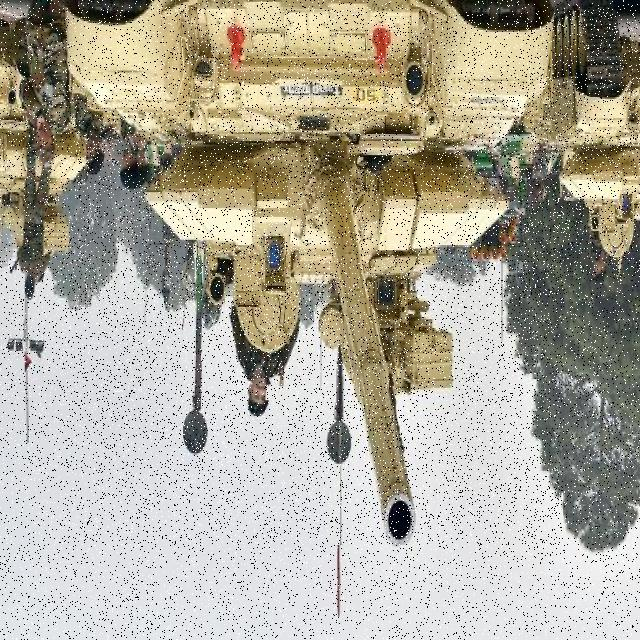MIL_MBT: (60, 7, 563, 545), (531, 10, 639, 274)
